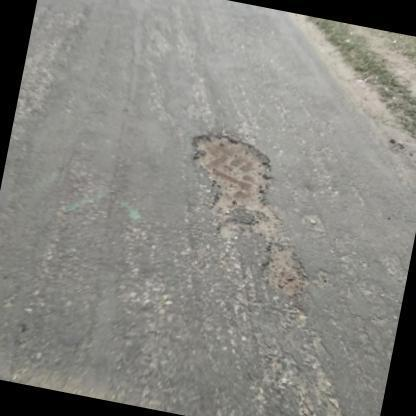pothole: (193, 133, 311, 294)
